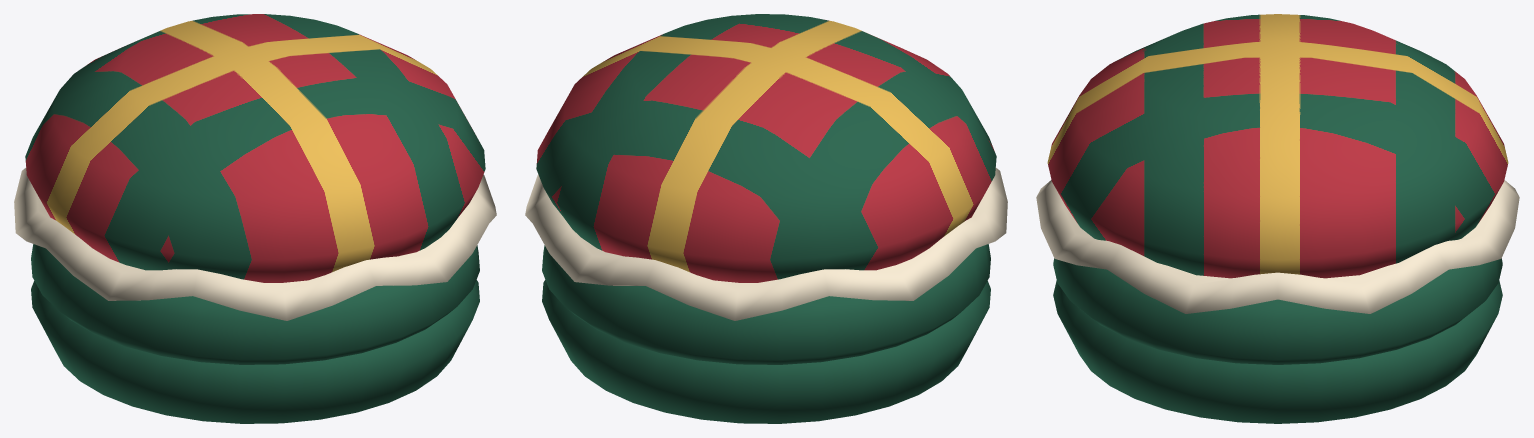
File: ACC_TH_FOOD_Primary.fbx
3 views of the same model, side by side, from view 1: azimuth 30°, elevation 25°; view 2: azimuth 150°, elevation 25°; view 3: azimuth 270°, elevation 25° (orthographic).
Parts seen in each view (by area): view 1: ACC_TH_FOOD_Primary; view 2: ACC_TH_FOOD_Primary; view 3: ACC_TH_FOOD_Primary.
Boxes of the visible parts, x1=… form: ACC_TH_FOOD_Primary: x1=14, y1=14, x2=496, y2=423; ACC_TH_FOOD_Primary: x1=525, y1=14, x2=1007, y2=423; ACC_TH_FOOD_Primary: x1=1036, y1=14, x2=1519, y2=423.
Size of the model in its own units: 86 by 59 by 86.
